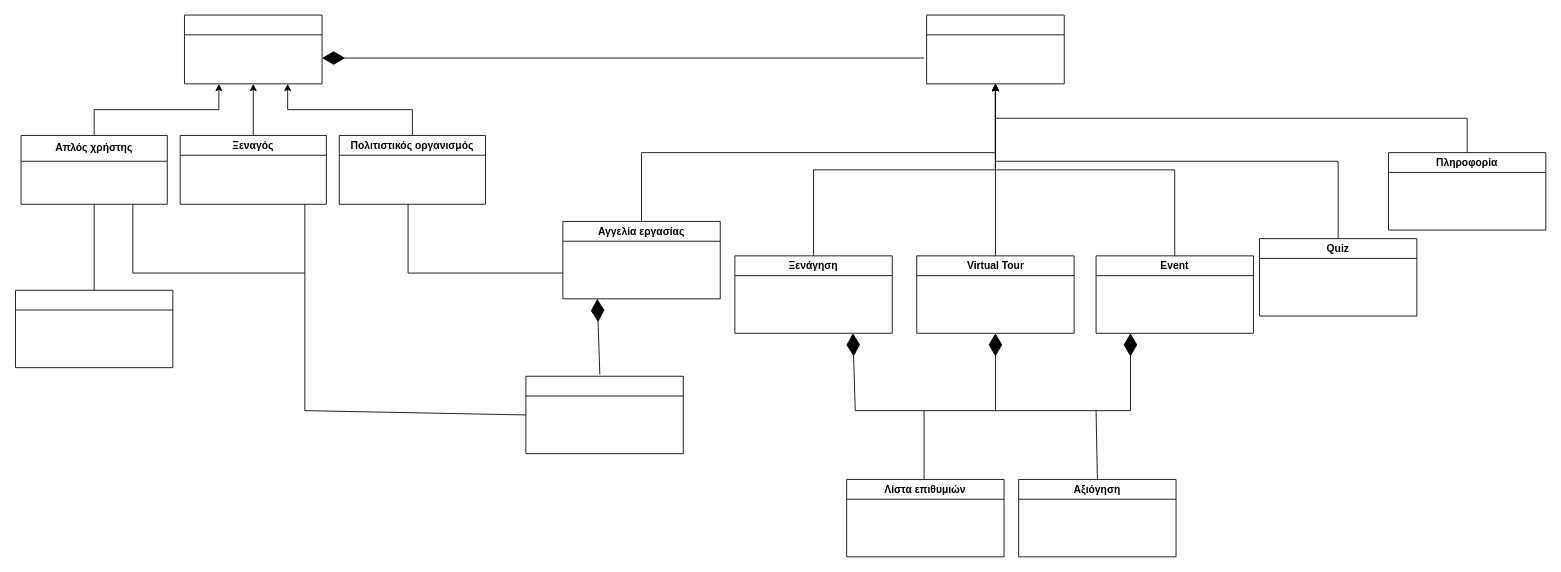
Image size: 1561x572. Some labels were removed from this diagram. The centre of each missing label's shape, as x and y in pixels:
Αίτηση εργασίας: the point at 604,414
Ανάρτηση: the point at 995,49
Πληρωμή: the point at 94,328
Χρήστης: the point at 253,49
